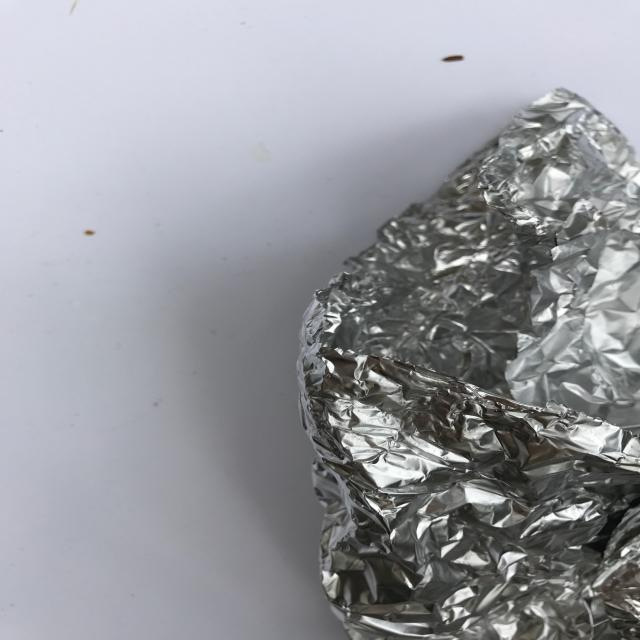metal: (294, 87, 640, 640)
